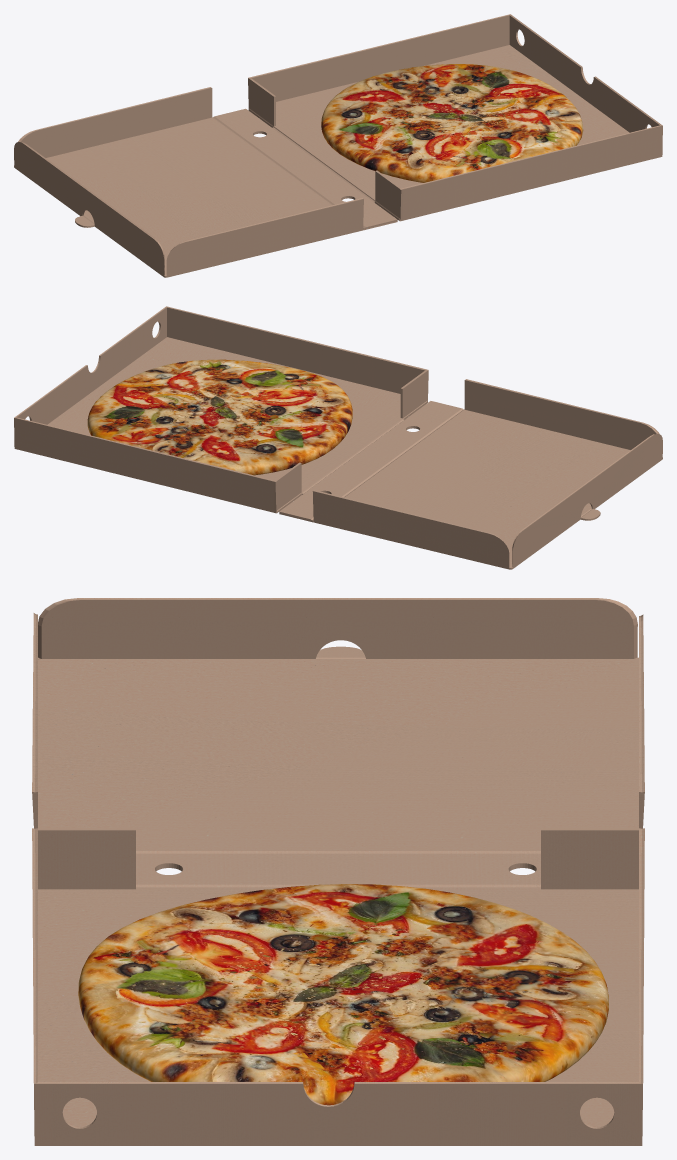
The model's file is pizza_11.glb.
3 views of the same model, one above another, from view 1: azimuth 30°, elevation 25°; view 2: azimuth 150°, elevation 25°; view 3: azimuth 270°, elevation 25° (orthographic). The views are drawn at different scales.
Visible parts, largest first — view 1: Plane, Cube; view 2: Plane, Cube; view 3: Plane, Cube.
Part boxes in pixels (box(x1,y1,x2,y2)): Plane: box(14, 14, 662, 277); Cube: box(321, 64, 583, 182); Plane: box(14, 306, 662, 569); Cube: box(87, 359, 352, 475); Plane: box(32, 598, 644, 1145); Cube: box(78, 884, 608, 1105).
Size of the model in its own units: 4.41 by 0.2651 by 2.3.
2 materials, 2 textured.
